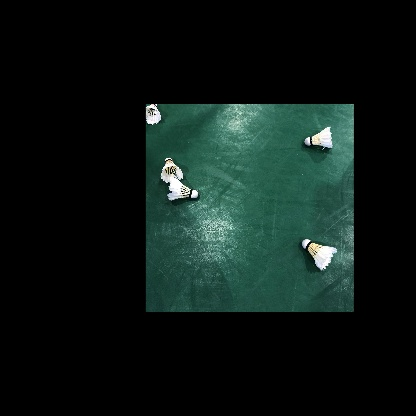ball_single: (302, 239, 337, 271), (167, 177, 198, 200), (304, 126, 333, 148), (161, 158, 183, 183), (146, 104, 161, 125)
